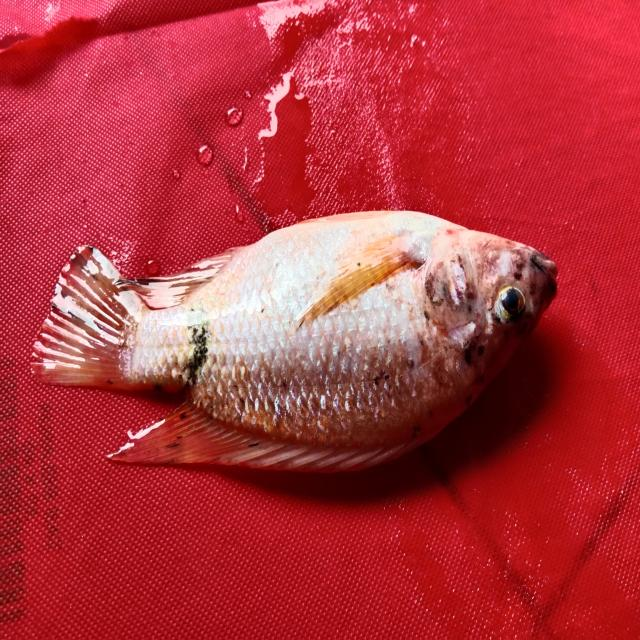ikan: (38, 150, 572, 518)
